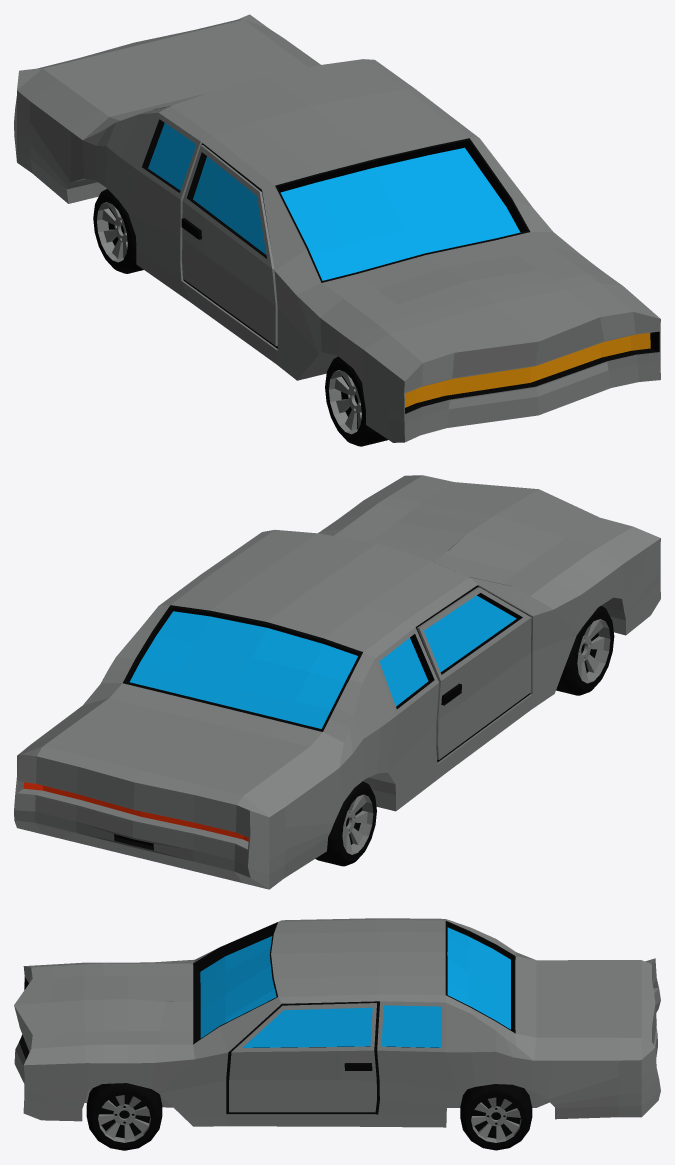
Rendered from Prototype_03.fbx.
The picture shows the model from 3 angles, top to bottom: view 1: azimuth 30°, elevation 25°; view 2: azimuth 150°, elevation 25°; view 3: azimuth 270°, elevation 25°; orthographic projection. The views are drawn at different scales.
Visible parts, largest first — view 1: LP_03, LP_F_R, LP_R_R; view 2: LP_03, LP_F_R, LP_R_R; view 3: LP_03, Car_LP_F_L.001, LP_R_L.
Boxes of the visible parts, bbox=[...] form: LP_03: bbox=[14, 14, 660, 442]; LP_F_R: bbox=[325, 356, 387, 446]; LP_R_R: bbox=[93, 189, 143, 273]; LP_03: bbox=[14, 475, 660, 889]; LP_F_R: bbox=[556, 606, 614, 695]; LP_R_R: bbox=[315, 781, 376, 866]; LP_03: bbox=[14, 918, 660, 1127]; Car_LP_F_L.001: bbox=[86, 1083, 162, 1150]; LP_R_L: bbox=[460, 1084, 532, 1150].
Size of the model in its own units: 4.82 by 12.92 by 3.35.
